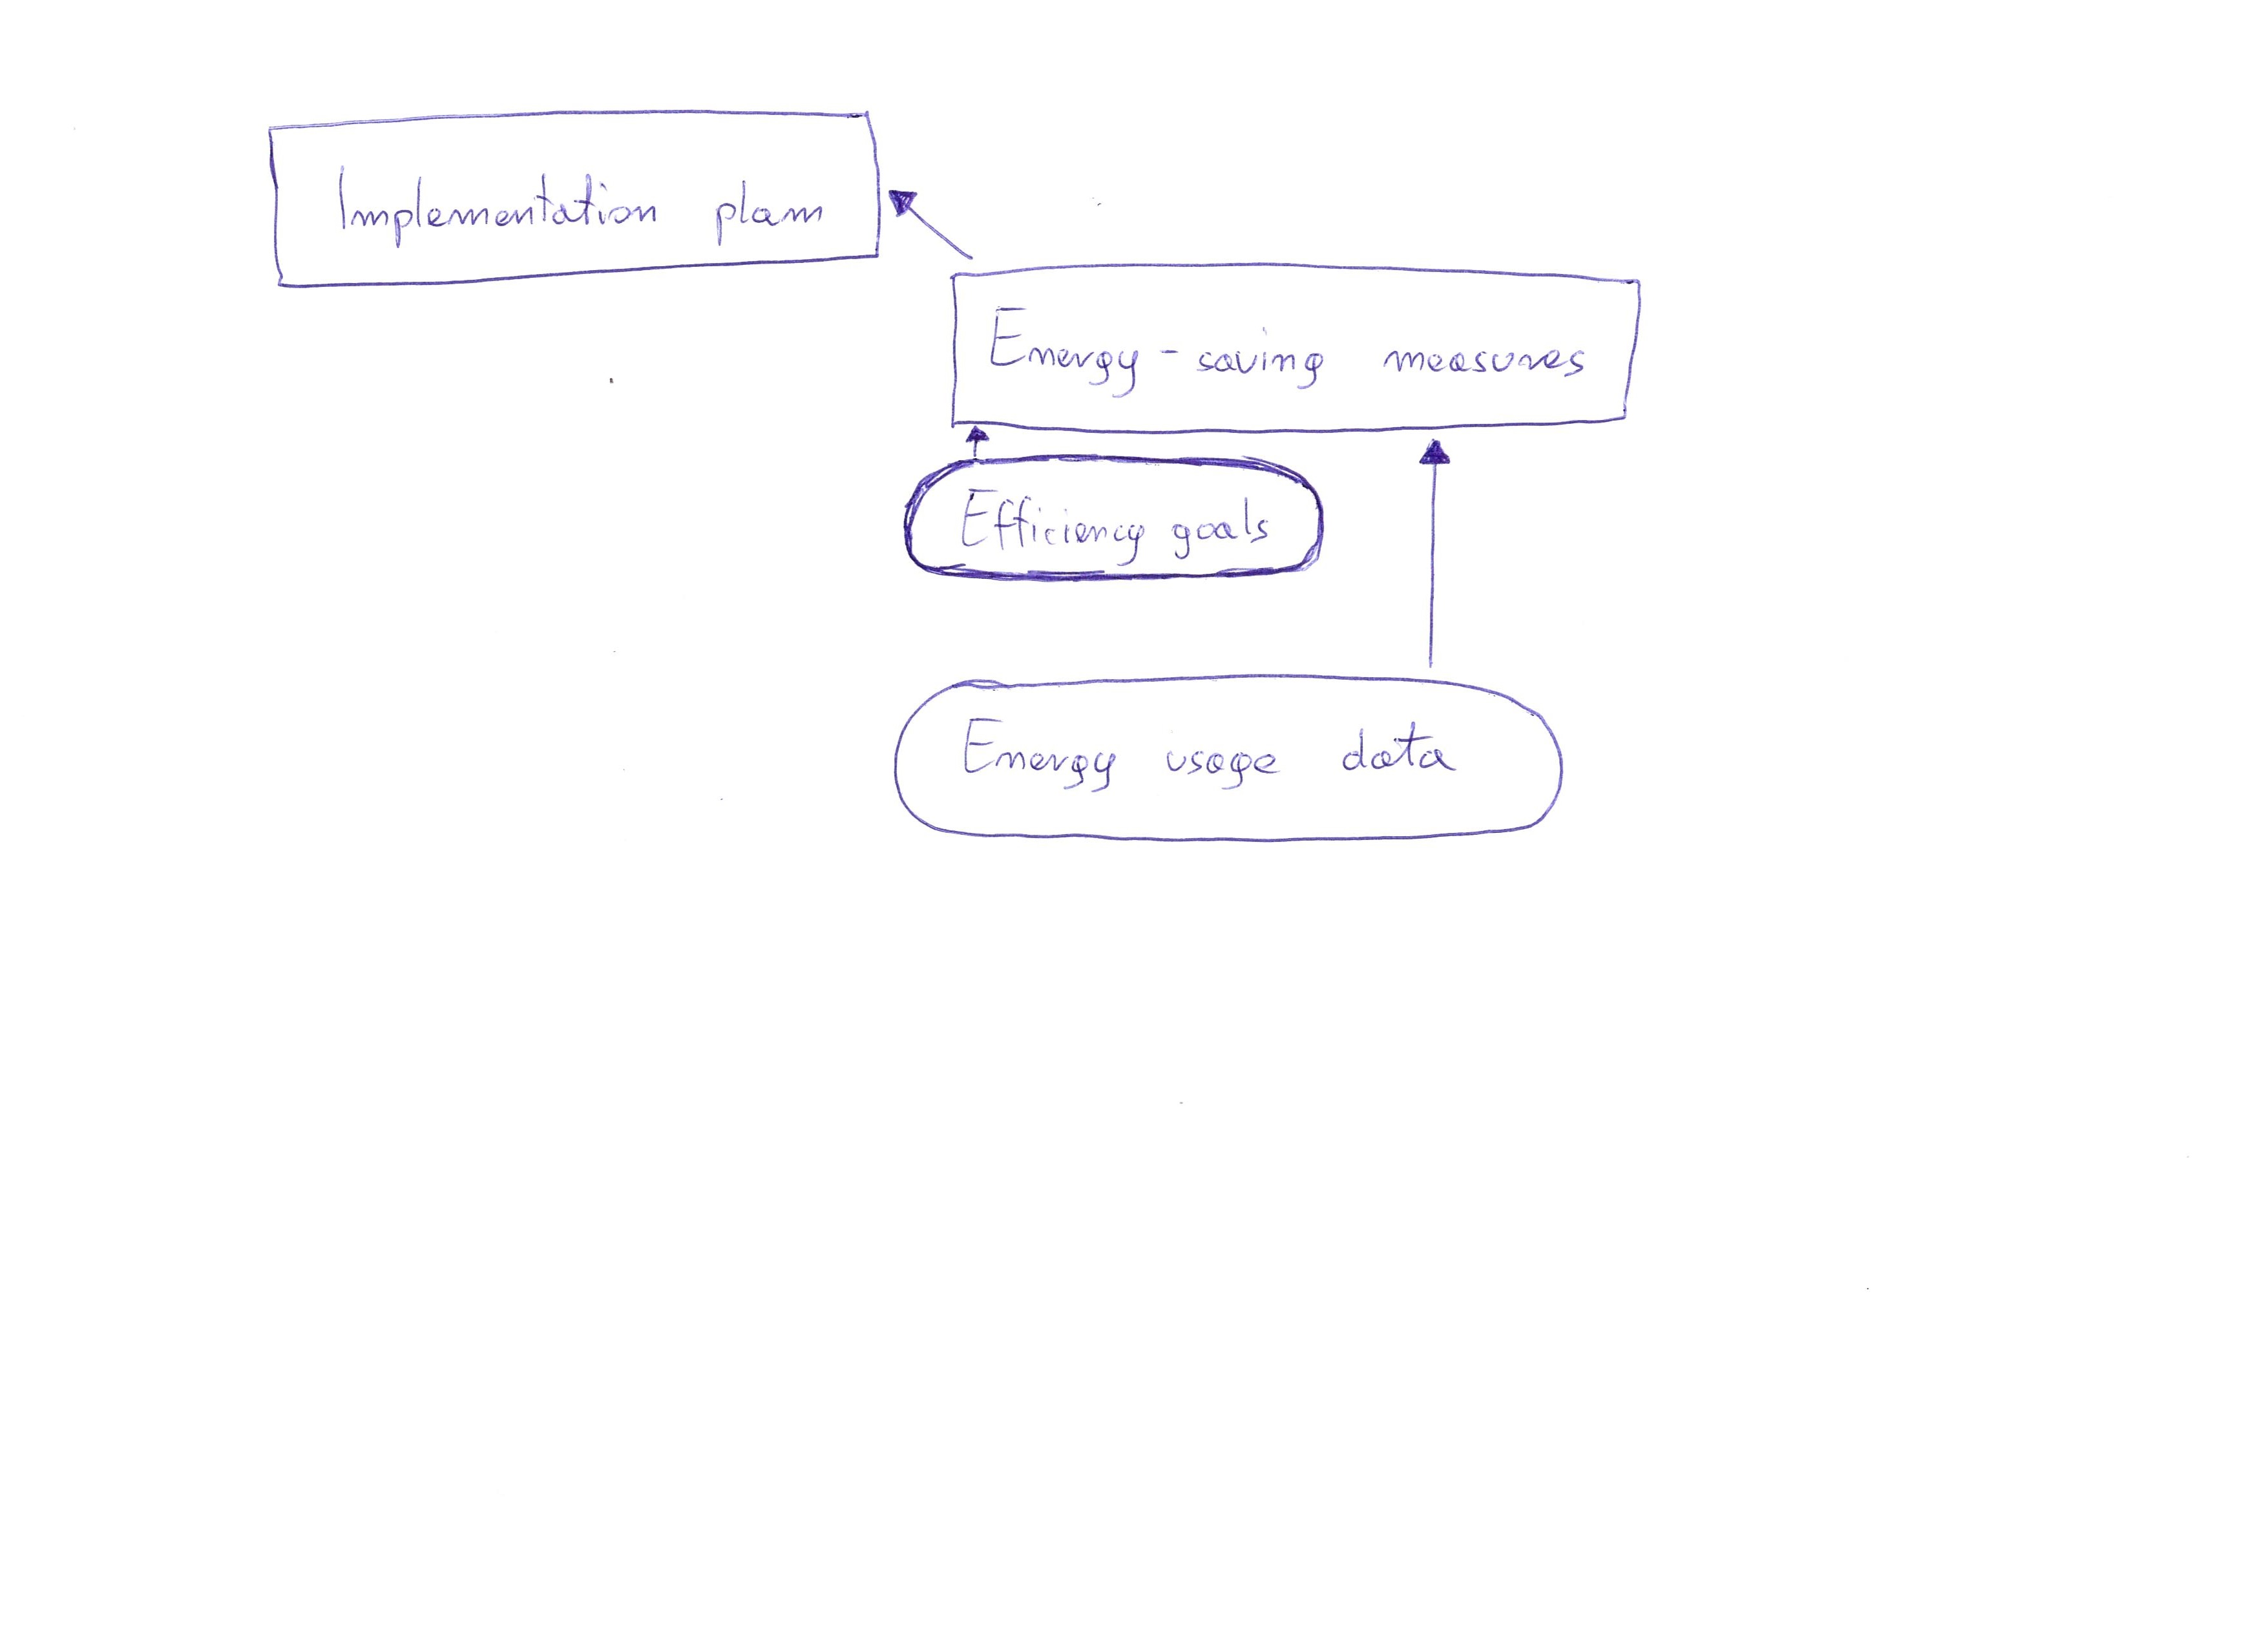arrow_information_requirement: (1402, 435, 1465, 677), (887, 183, 983, 268), (963, 426, 990, 458)
node_decision: (939, 263, 1671, 430), (257, 104, 886, 292)
node_input_data: (877, 671, 1587, 846), (903, 451, 1345, 604)
text: (981, 296, 1608, 403), (954, 705, 1484, 810), (324, 155, 840, 252), (954, 481, 1287, 566)
